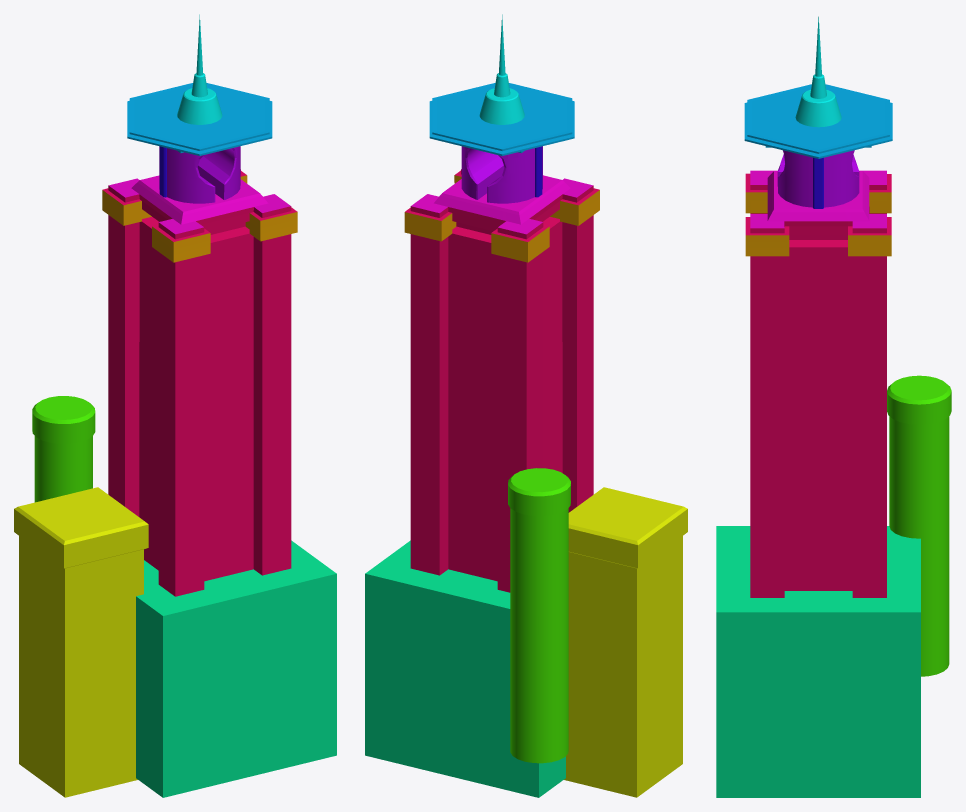
The model's file is HolyTower.fbx.
3 views of the same model, side by side, from view 1: azimuth 30°, elevation 25°; view 2: azimuth 150°, elevation 25°; view 3: azimuth 270°, elevation 25° (orthographic). The views are drawn at different scales.
Parts seen in each view (by area): view 1: mainbuilding, side_building, cap_2, towerTower, tower1, needle; view 2: mainbuilding, side_building, towerTower, cap_2, tower1, needle; view 3: mainbuilding, towerTower, cap_2, tower1, needle.
Part boxes in pixels (box(x1,y1,x2,y2)): mainbuilding: box(102, 169, 336, 797); side_building: box(14, 487, 148, 797); cap_2: box(127, 83, 272, 155); towerTower: box(32, 396, 95, 502); tower1: box(159, 146, 240, 203); needle: box(177, 14, 222, 124); mainbuilding: box(365, 169, 599, 797); side_building: box(564, 487, 687, 797); towerTower: box(508, 468, 570, 763); cap_2: box(429, 83, 574, 155); tower1: box(461, 146, 542, 203); needle: box(479, 14, 524, 124); mainbuilding: box(716, 170, 920, 797); towerTower: box(887, 375, 951, 676); cap_2: box(744, 84, 892, 158); tower1: box(777, 150, 859, 208); needle: box(795, 16, 841, 127).
Bounding box in the file's own units: 7.12 × 20 × 5.74.
